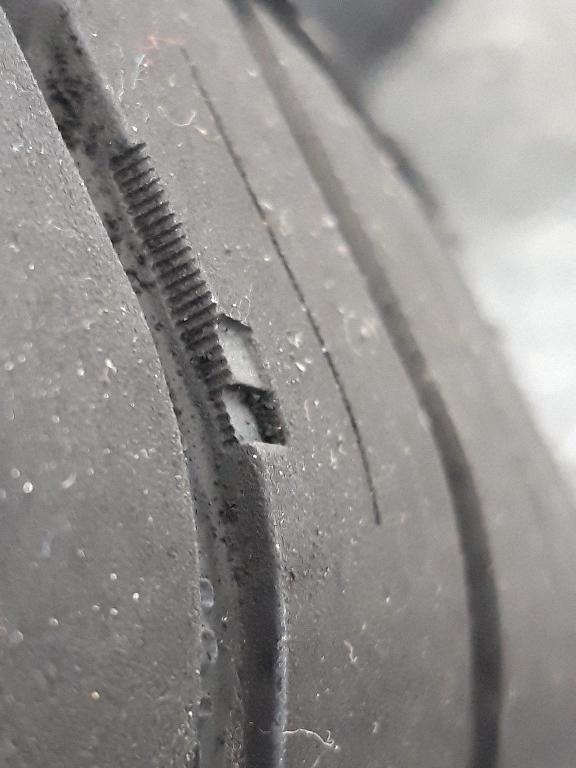temoin:25: (170, 306, 305, 464)
